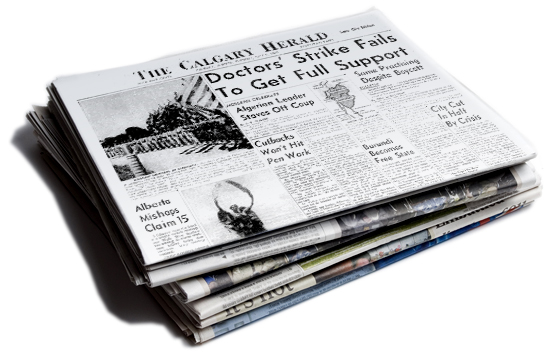news_paper: (21, 1, 540, 292), (39, 56, 545, 331), (43, 68, 532, 352), (87, 26, 548, 320)
